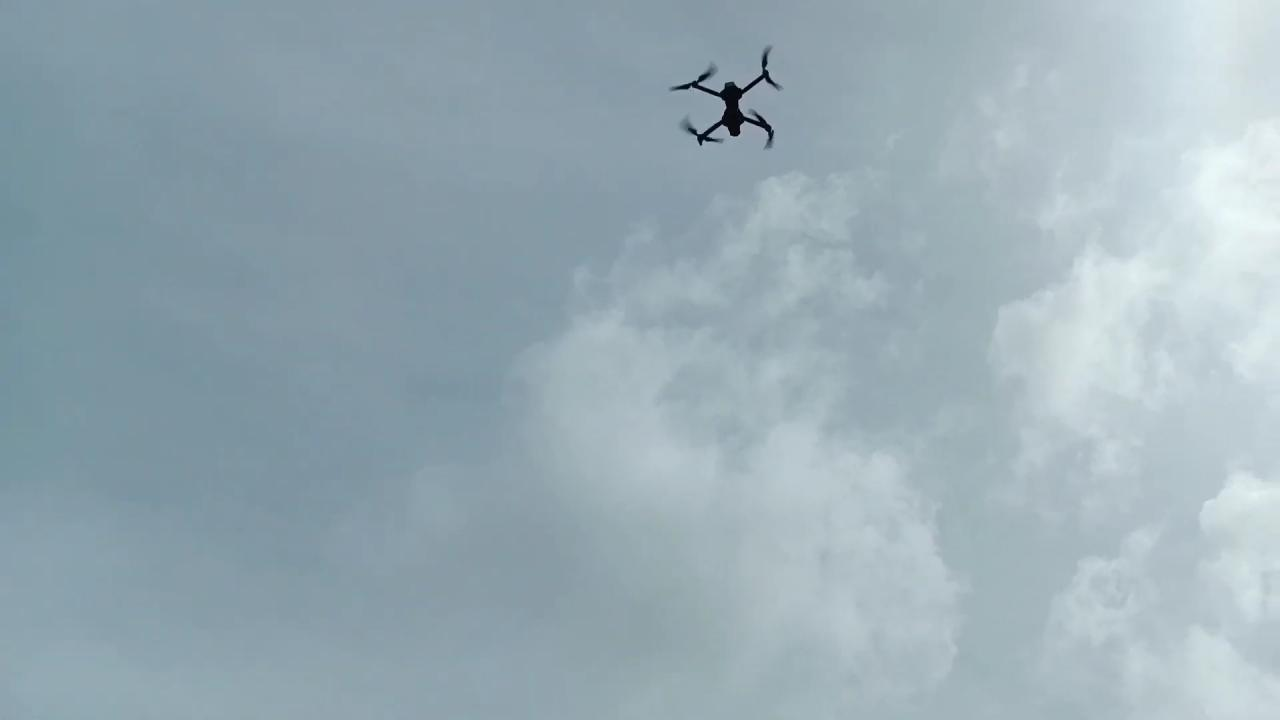Drone: (662, 36, 801, 163)
